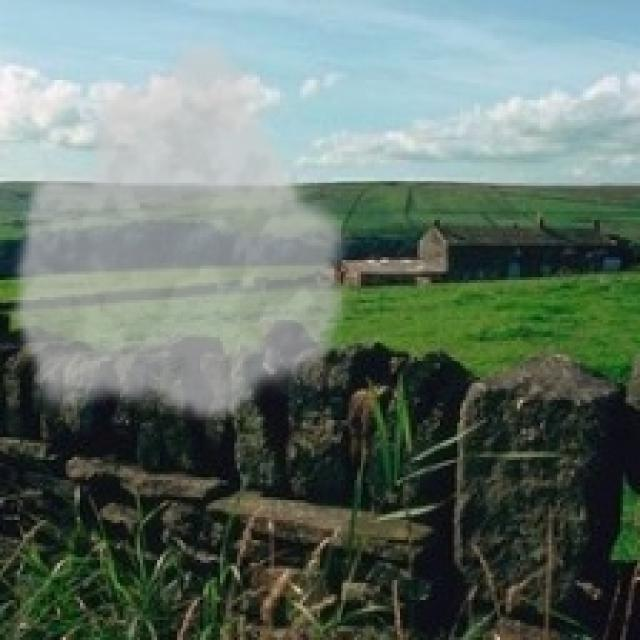smoke: (6, 31, 357, 426)
